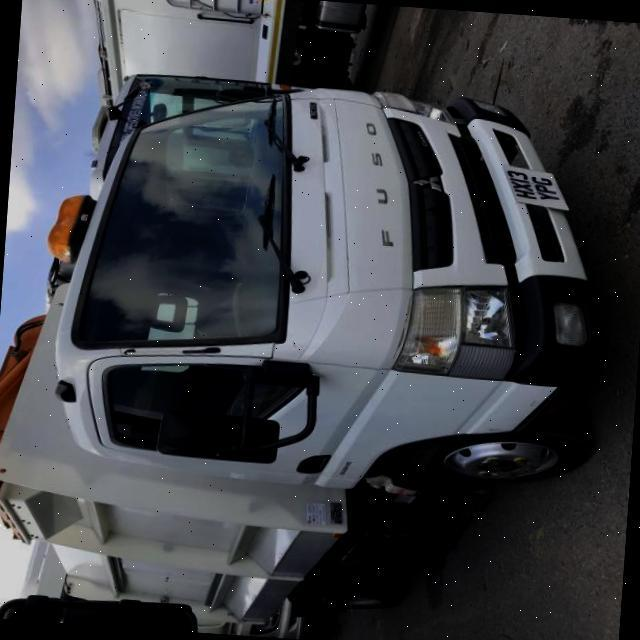truck: (0, 63, 616, 640)
